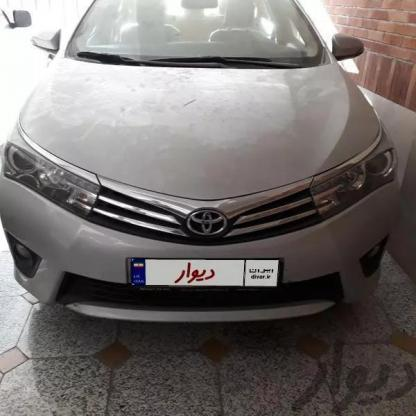Car: (0, 0, 398, 331)
